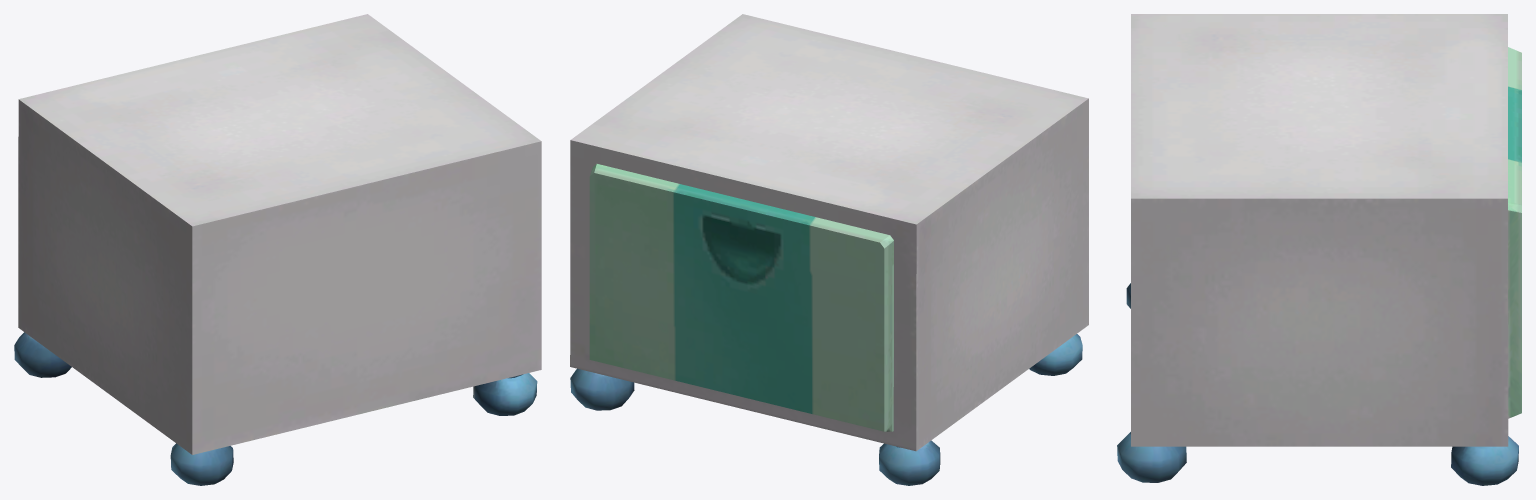
Rendered from furni_0200514_02.FBX.
3 renders of one model, left to right at view 1: azimuth 30°, elevation 25°; view 2: azimuth 150°, elevation 25°; view 3: azimuth 270°, elevation 25°, orthographic. The views are drawn at different scales.
Parts seen in each view (by area): view 1: furni_0200514_02; view 2: furni_0200514_02; view 3: furni_0200514_02.
Part boxes in pixels (bbox=[...]): furni_0200514_02: bbox=[14, 14, 541, 485]; furni_0200514_02: bbox=[570, 14, 1088, 485]; furni_0200514_02: bbox=[1117, 14, 1521, 485].
Bounding box in the file's own units: 72.08 × 50.25 × 63.82.
1 material, 1 textured.
